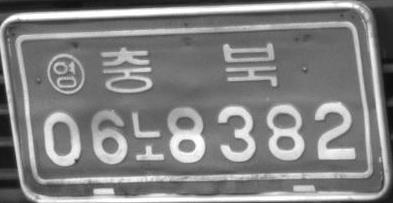0: (43, 110, 82, 167)
2: (313, 100, 355, 161)
3: (216, 105, 256, 163)
6: (90, 108, 128, 165)
8: (265, 103, 305, 162), (166, 105, 205, 164)
노: (131, 110, 165, 161)
영: (46, 52, 86, 95)
충북_D: (100, 41, 278, 94)
